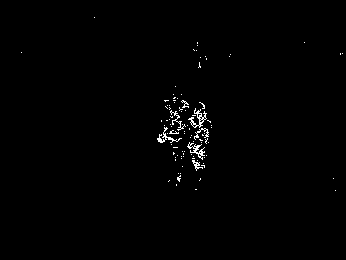person: (157, 84, 189, 187), (185, 98, 212, 182)
